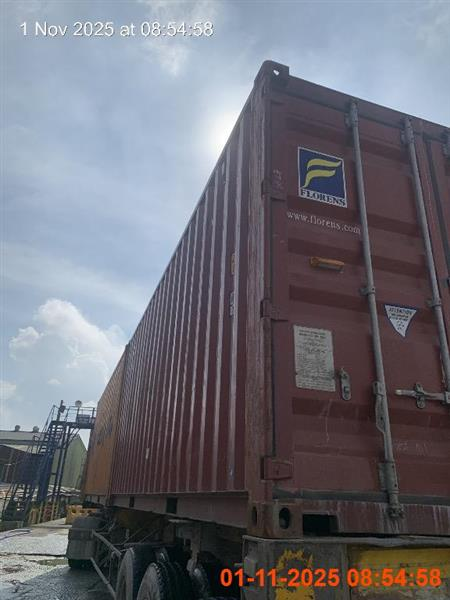broken: (63, 60, 449, 598)
